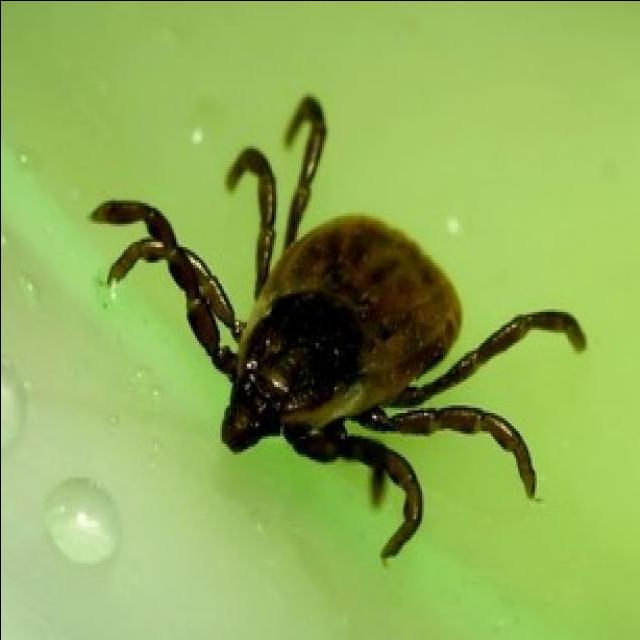Rhipicephalus Sanguineus-F: (90, 96, 584, 560)
